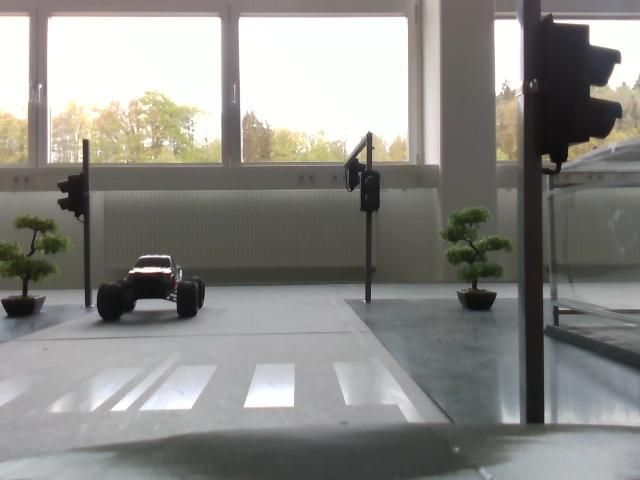car: (93, 241, 212, 331)
potted plant: (436, 202, 516, 313), (2, 217, 67, 333)
traffic light: (529, 8, 628, 153), (60, 170, 93, 222), (364, 172, 382, 212), (346, 159, 363, 193)
